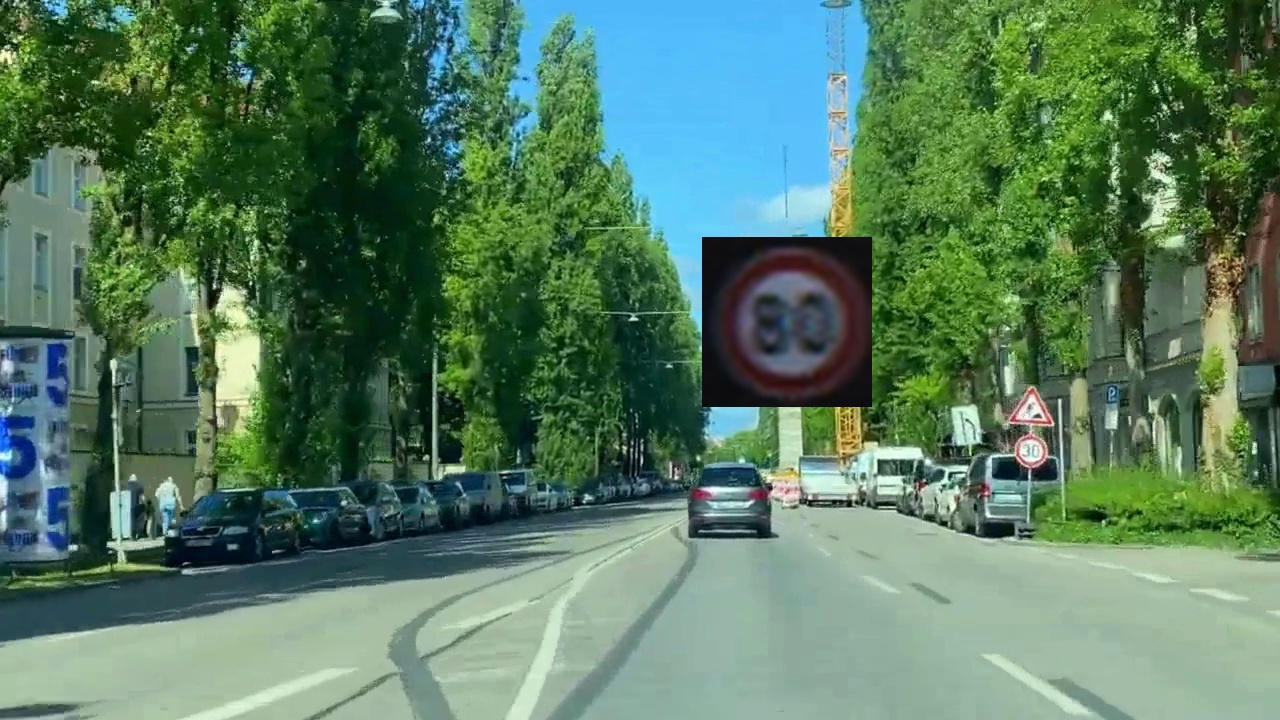Speed 80: (702, 237, 872, 407)
